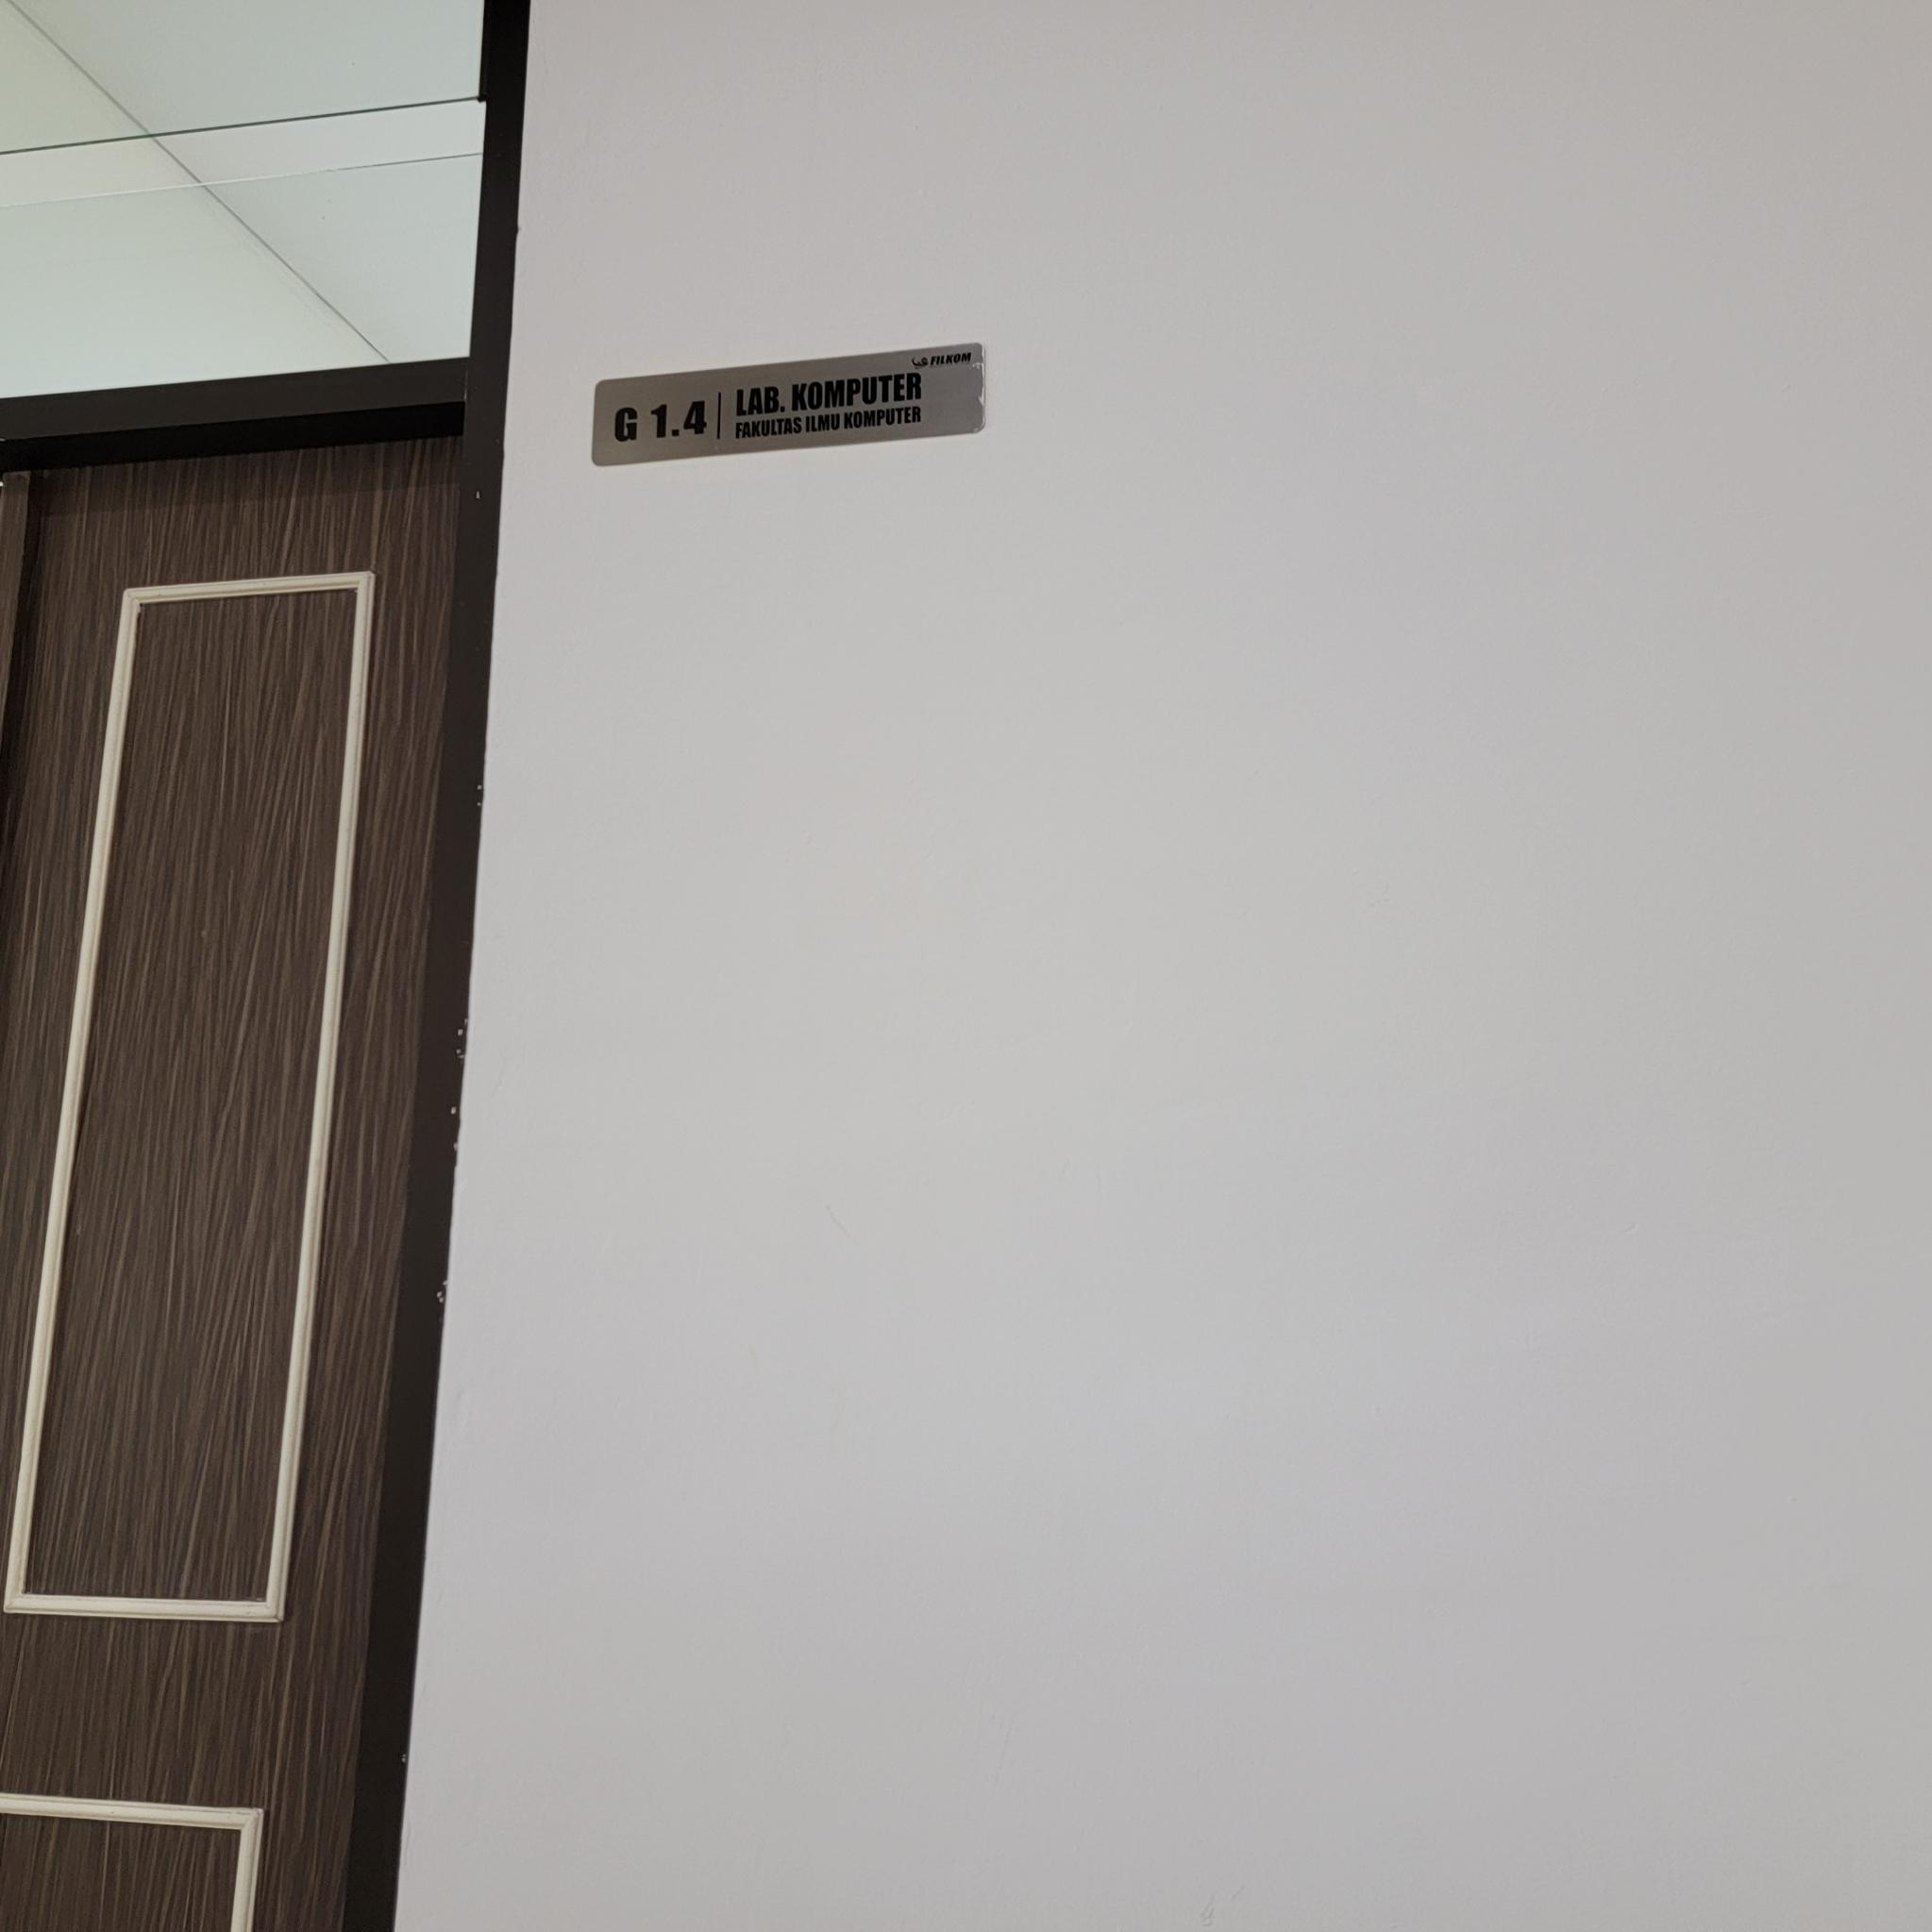plate: (593, 341, 984, 465)
